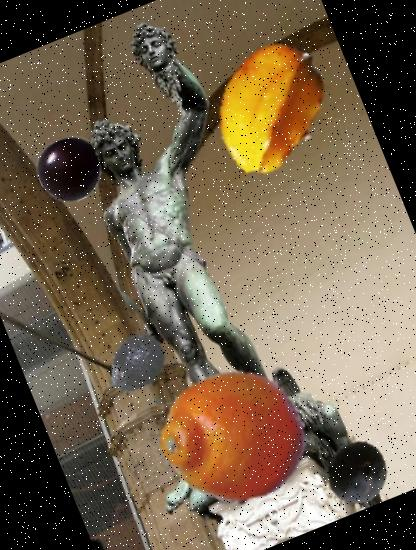Avocado: (96, 323, 178, 406)
Carambula: (182, 21, 358, 197)
Cherry: (28, 127, 112, 212)
Plum: (316, 429, 401, 514)
Tangelo: (136, 342, 330, 535)
